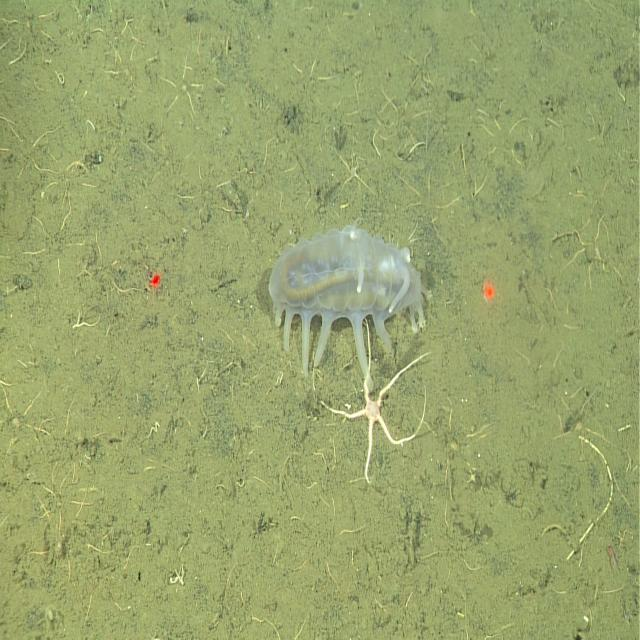Brittle Star: (319, 340, 432, 486), (24, 193, 85, 295), (333, 145, 375, 200)
Not Brittle Star: (266, 218, 432, 382)
